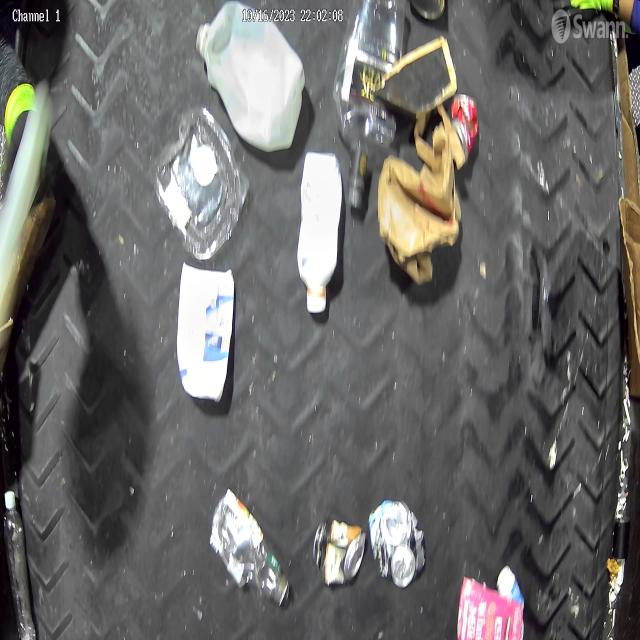can: (175, 256, 237, 406), (368, 500, 427, 588), (454, 573, 524, 640), (312, 515, 368, 589), (450, 90, 480, 160)
milk_jug: (194, 0, 307, 153)
plastic_bottle: (332, 0, 408, 213), (209, 487, 292, 606)
